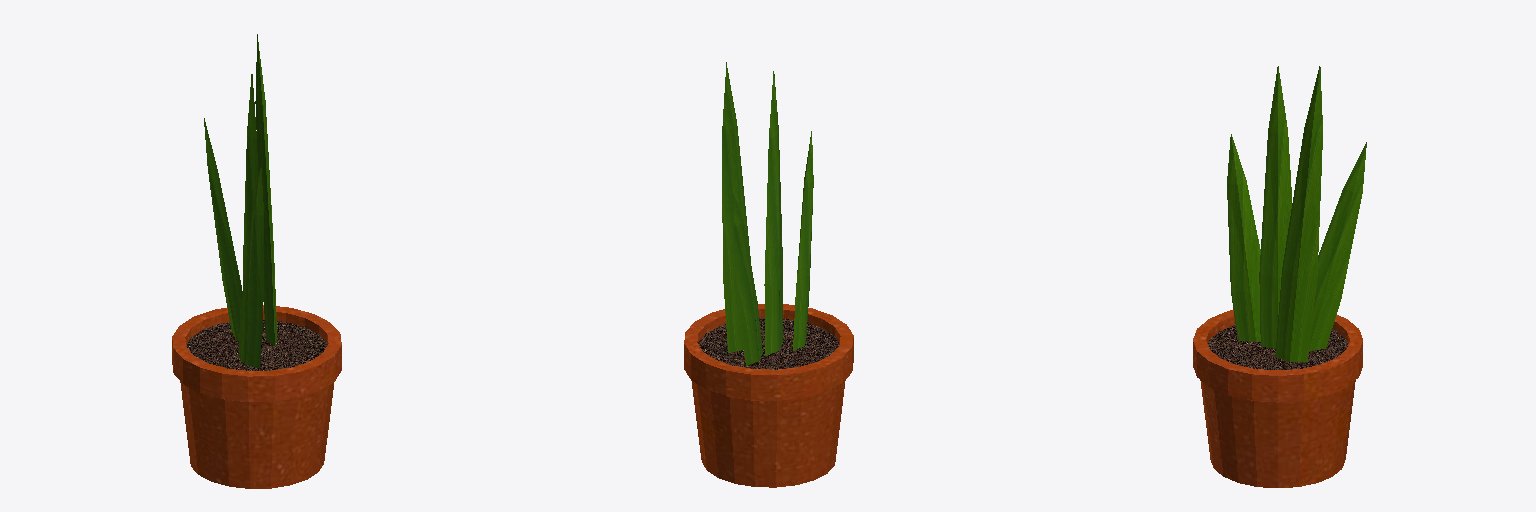
3 renders of one model, left to right at view 1: azimuth 30°, elevation 25°; view 2: azimuth 150°, elevation 25°; view 3: azimuth 270°, elevation 25°, orthographic.
Visible parts, largest first — view 1: pCylinder3, pCylinder4, pPyramid2, pPyramid3, pPyramid4, pPyramid1; view 2: pCylinder3, pPyramid3, pPyramid1, pCylinder4, pPyramid4, pPyramid2; view 3: pCylinder3, pPyramid3, pPyramid1, pPyramid2, pPyramid4, pCylinder4.
Part boxes in pixels (bbox=[...]): pCylinder3: bbox=[172, 305, 341, 488]; pCylinder4: bbox=[186, 320, 327, 370]; pPyramid2: bbox=[238, 168, 263, 368]; pPyramid3: bbox=[255, 34, 276, 345]; pPyramid4: bbox=[204, 118, 241, 340]; pPyramid1: bbox=[243, 74, 257, 281]; pCylinder3: bbox=[684, 304, 853, 487]; pPyramid3: bbox=[722, 62, 750, 352]; pPyramid1: bbox=[764, 71, 782, 355]; pCylinder4: bbox=[698, 318, 839, 369]; pPyramid4: bbox=[733, 180, 762, 365]; pPyramid2: bbox=[793, 131, 813, 350]; pCylinder3: bbox=[1193, 310, 1362, 487]; pPyramid3: bbox=[1275, 66, 1322, 361]; pPyramid1: bbox=[1259, 66, 1291, 348]; pPyramid2: bbox=[1227, 134, 1260, 341]; pPyramid4: bbox=[1309, 142, 1366, 350]; pCylinder4: bbox=[1208, 325, 1347, 369].
Size of the model in its own units: 2 by 5.28 by 2.04.
Materials: 1 (1 with a texture image).